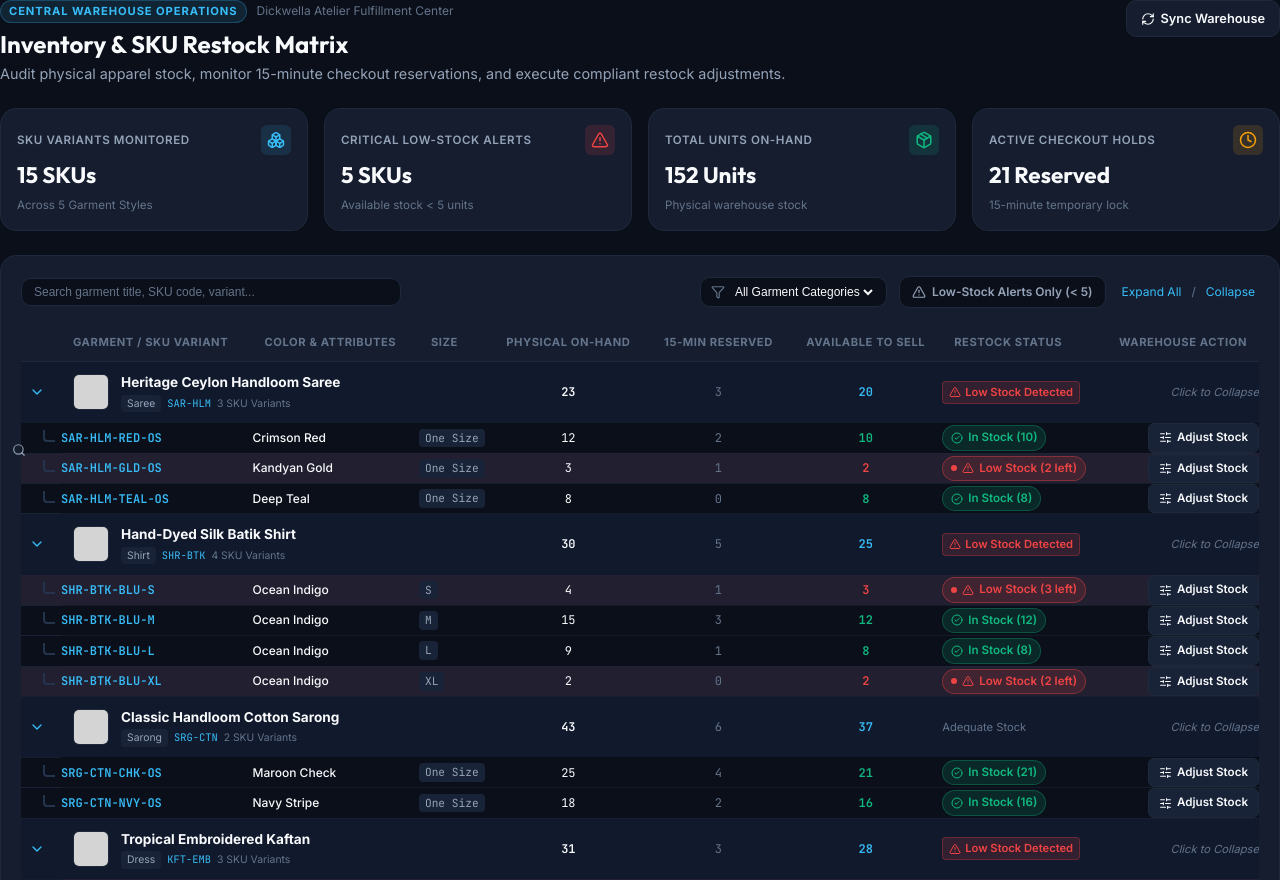
STORM-FE-018: Admin Inventory Restock Matrix, SKU Variant Stock Adjustment & Low-Stock Alerts › AC4: In-Place Optimistic UI Update & Filtering in InventoryPage › filters inventory table by search keyword
The width and height of the screenshot is (1280, 880).
Type "Batik" into the field with test id "inventory-search-input".
click(211, 292); type("Batik")  # box [34, 285, 388, 299]
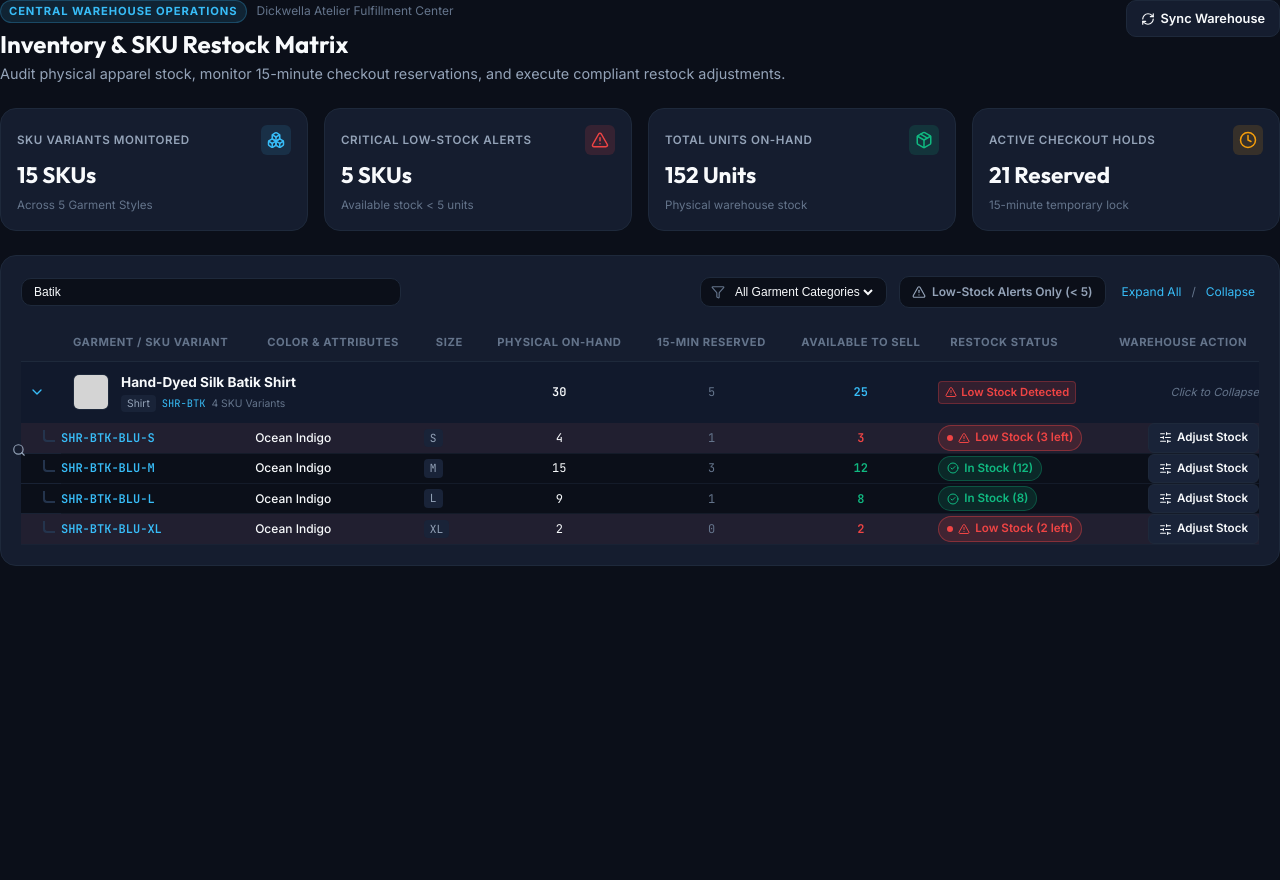
expect the text "Hand-Dyed Silk Batik Shirt" is shown: met, box [121, 374, 296, 390]
expect the text "Classic Handloom Cotton Sarong" is gone: met
